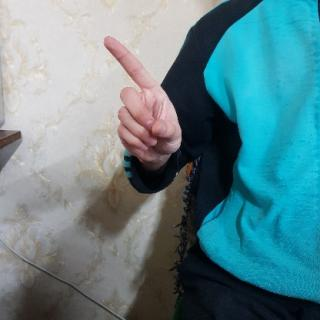BAA: (101, 31, 184, 167)
